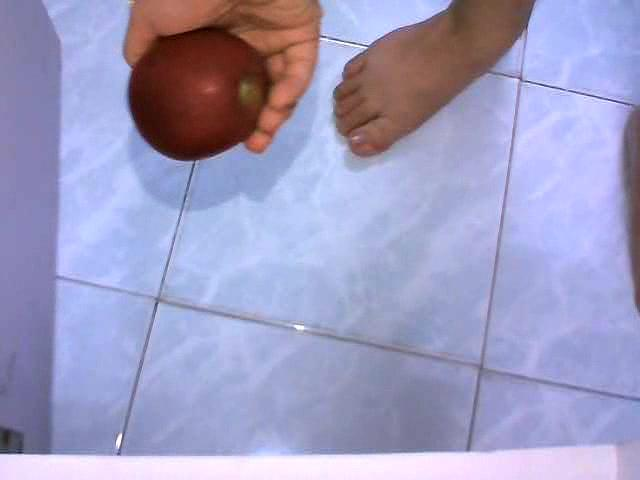apple: (127, 23, 273, 164)
